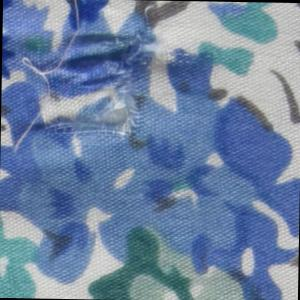Damage: (8, 1, 165, 162)
